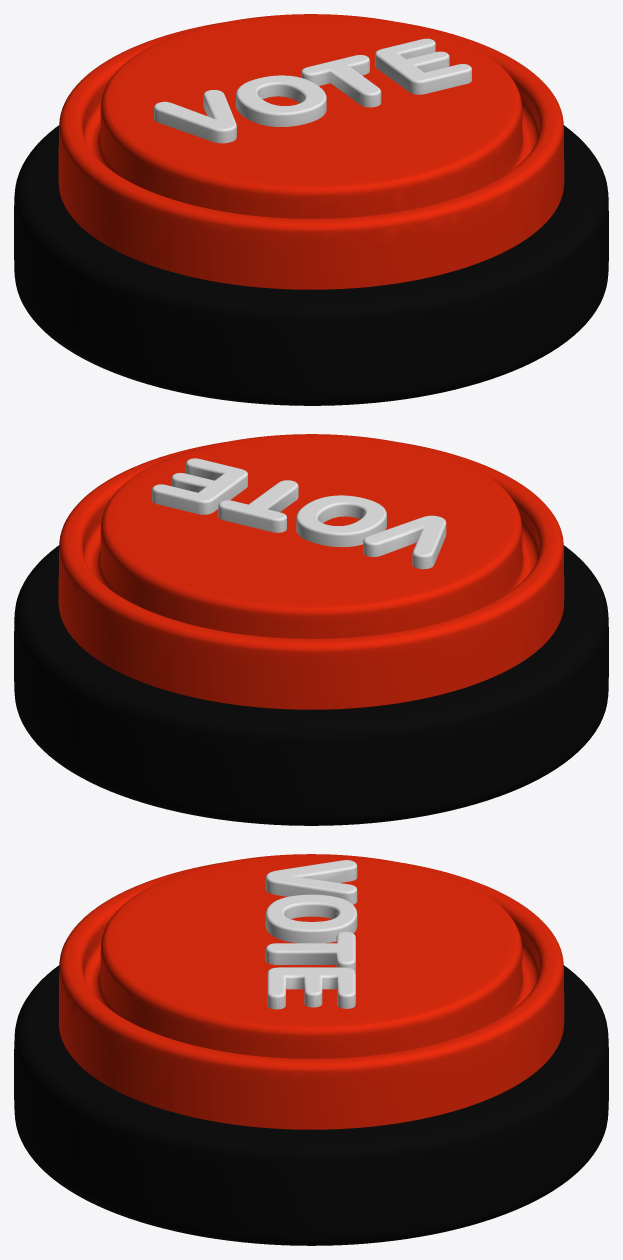
File: dialogue-button.glb
3 views of the same model, one above another, from view 1: azimuth 30°, elevation 25°; view 2: azimuth 150°, elevation 25°; view 3: azimuth 270°, elevation 25° (orthographic).
Parts seen in each view (by area): view 1: b981eb9d-3955-4664-8b11-9aa56ffe6e4b, 8370286b-0775-4dda-8ac0-5da42b9e30e4, 2b96281c-a6ad-4840-8b16-c87ff66b7207; view 2: b981eb9d-3955-4664-8b11-9aa56ffe6e4b, 8370286b-0775-4dda-8ac0-5da42b9e30e4, 2b96281c-a6ad-4840-8b16-c87ff66b7207; view 3: b981eb9d-3955-4664-8b11-9aa56ffe6e4b, 8370286b-0775-4dda-8ac0-5da42b9e30e4, 2b96281c-a6ad-4840-8b16-c87ff66b7207.
Boxes of the visible parts, x1,y1,x2,y2 form: b981eb9d-3955-4664-8b11-9aa56ffe6e4b: [58, 14, 564, 289]; 8370286b-0775-4dda-8ac0-5da42b9e30e4: [14, 125, 608, 405]; 2b96281c-a6ad-4840-8b16-c87ff66b7207: [154, 38, 471, 143]; b981eb9d-3955-4664-8b11-9aa56ffe6e4b: [58, 434, 564, 709]; 8370286b-0775-4dda-8ac0-5da42b9e30e4: [14, 545, 608, 825]; 2b96281c-a6ad-4840-8b16-c87ff66b7207: [152, 458, 446, 569]; b981eb9d-3955-4664-8b11-9aa56ffe6e4b: [59, 854, 564, 1129]; 8370286b-0775-4dda-8ac0-5da42b9e30e4: [14, 965, 608, 1245]; 2b96281c-a6ad-4840-8b16-c87ff66b7207: [265, 860, 357, 1009].
Size of the model in its own units: 2.38 by 0.88 by 2.38.
